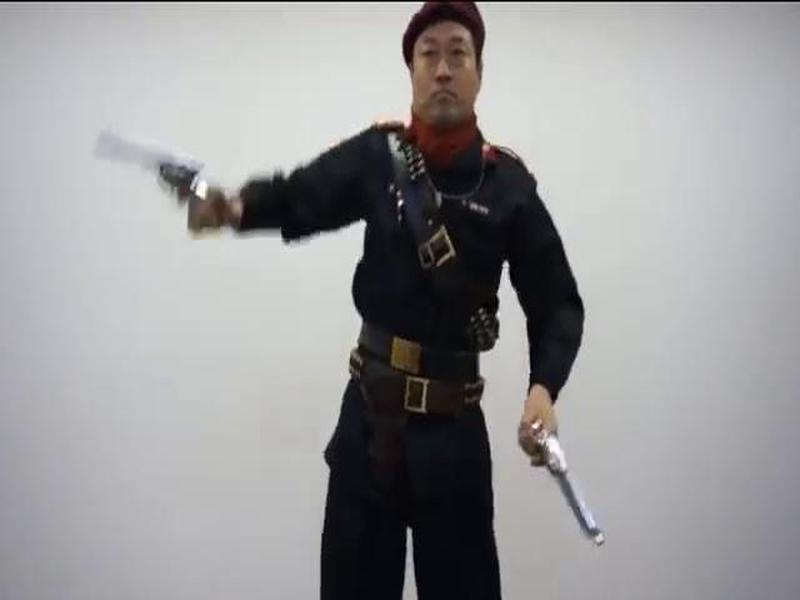Revolver: (526, 415, 614, 554)
